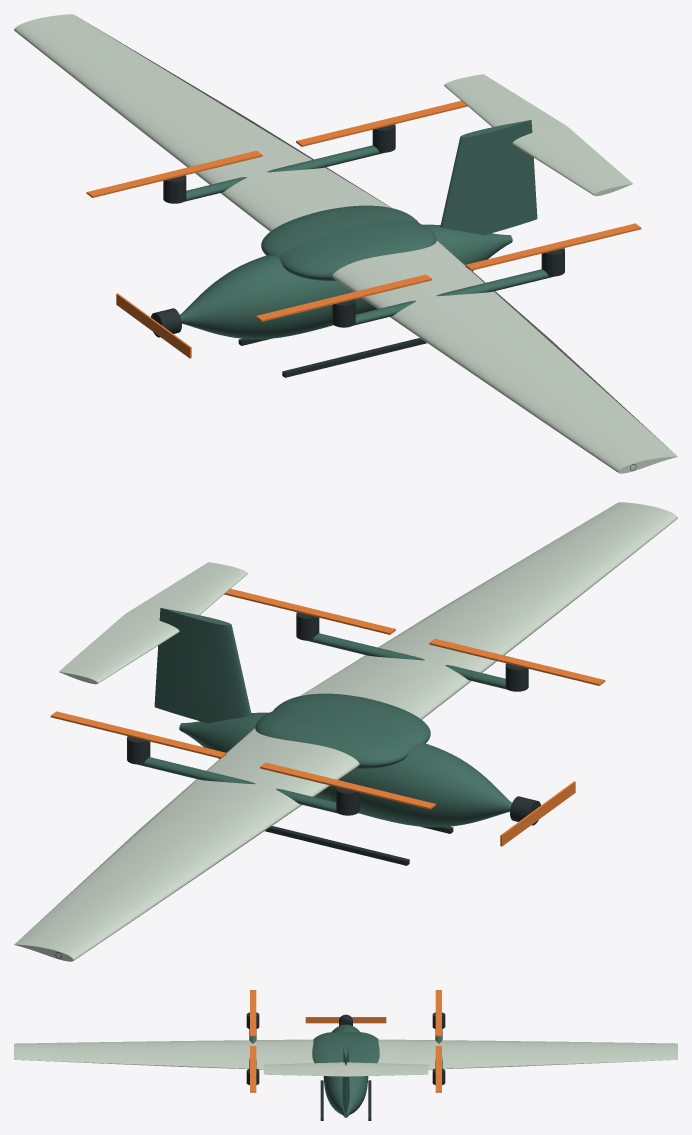
File: surface_tools-09-model.glb
3 views of the same model, one above another, from view 1: azimuth 30°, elevation 25°; view 2: azimuth 150°, elevation 25°; view 3: azimuth 270°, elevation 25° (orthographic). The views are drawn at different scales.
Parts seen in each view (by area): view 1: wing-1, wing1, fuselage, fin, root_fairing-1, tail-1, root_fairing1, tail1, boom_fairing-1, boom_fairing1, prop_-1_700.0, prop_-1_200.0 (+4 smaller); view 2: wing1, wing-1, fuselage, fin, root_fairing1, tail1, root_fairing-1, tail-1, boom_fairing1, boom_fairing-1, prop_1_700.0, prop_1_200.0 (+4 smaller); view 3: wing-1, wing1, fuselage, tail-1, tail1, root_fairing-1, root_fairing1, cruise_prop, fin, prop_-1_200.0, prop_-1_700.0, prop_1_200.0 (+1 smaller).
Boxes of the visible parts, x1=… form: wing-1: x1=332, y1=240, x2=677, y2=473; wing1: x1=14, y1=14, x2=391, y2=231; fuselage: x1=180, y1=224, x2=512, y2=339; fin: x1=440, y1=120, x2=537, y2=235; root_fairing-1: x1=279, y1=220, x2=436, y2=280; tail-1: x1=512, y1=126, x2=632, y2=196; root_fairing1: x1=261, y1=205, x2=418, y2=257; tail1: x1=444, y1=74, x2=566, y2=132; boom_fairing-1: x1=354, y1=269, x2=553, y2=325; boom_fairing1: x1=184, y1=145, x2=384, y2=201; prop_-1_700.0: x1=465, y1=223, x2=641, y2=270; prop_-1_200.0: x1=256, y1=274, x2=431, y2=321; wing1: x1=14, y1=728, x2=359, y2=961; wing-1: x1=300, y1=502, x2=677, y2=719; fuselage: x1=179, y1=712, x2=511, y2=827; fin: x1=154, y1=608, x2=251, y2=723; root_fairing1: x1=255, y1=708, x2=412, y2=768; tail1: x1=59, y1=614, x2=179, y2=684; root_fairing-1: x1=273, y1=693, x2=430, y2=745; tail-1: x1=125, y1=562, x2=247, y2=620; boom_fairing1: x1=138, y1=757, x2=337, y2=813; boom_fairing-1: x1=307, y1=633, x2=507, y2=689; prop_1_700.0: x1=50, y1=711, x2=226, y2=758; prop_1_200.0: x1=260, y1=762, x2=435, y2=809; wing-1: x1=14, y1=1039, x2=314, y2=1069; wing1: x1=377, y1=1039, x2=677, y2=1069; fuselage: x1=323, y1=1024, x2=368, y2=1117; tail-1: x1=263, y1=1062, x2=345, y2=1076; tail1: x1=346, y1=1062, x2=428, y2=1076; root_fairing-1: x1=312, y1=1032, x2=345, y2=1063; root_fairing1: x1=346, y1=1032, x2=379, y2=1063; cruise_prop: x1=305, y1=1017, x2=386, y2=1023; fin: x1=342, y1=1039, x2=349, y2=1114; prop_-1_200.0: x1=250, y1=990, x2=256, y2=1036; prop_-1_700.0: x1=250, y1=1046, x2=256, y2=1092; prop_1_200.0: x1=435, y1=990, x2=441, y2=1036.
Bounding box in the file's own units: 989 × 400 × 2500.
